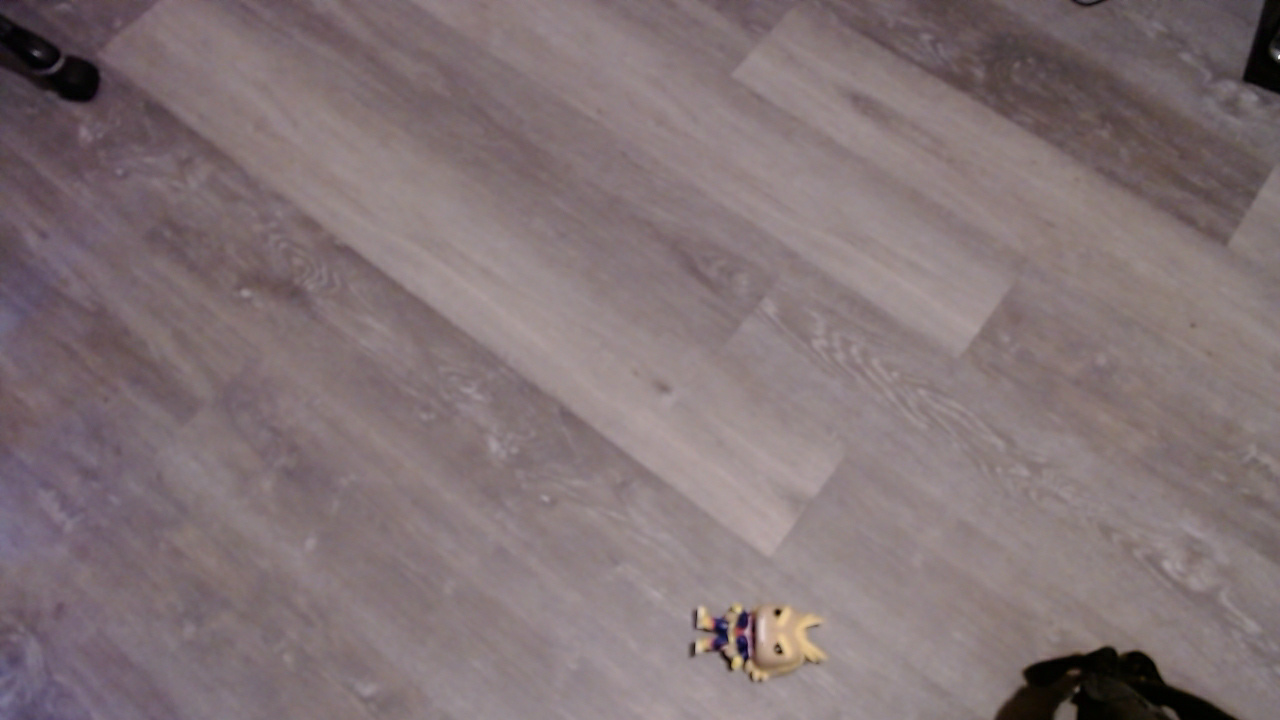all_might: (689, 596, 840, 690)
